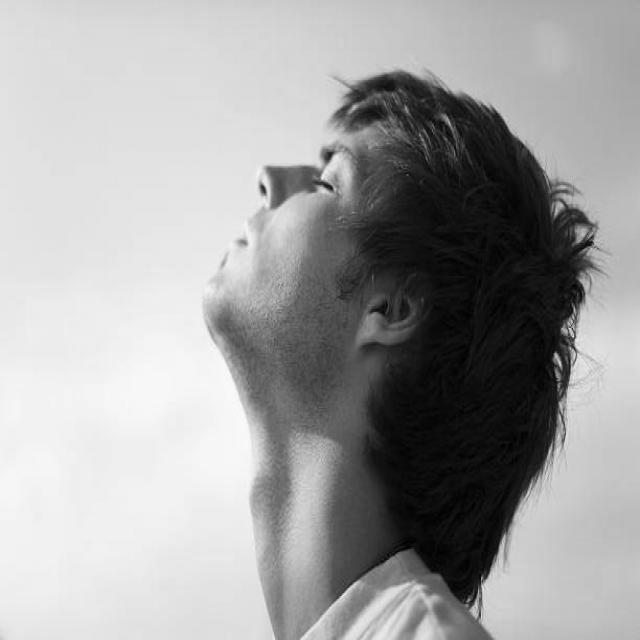real: (204, 113, 427, 425), (281, 126, 360, 226)
